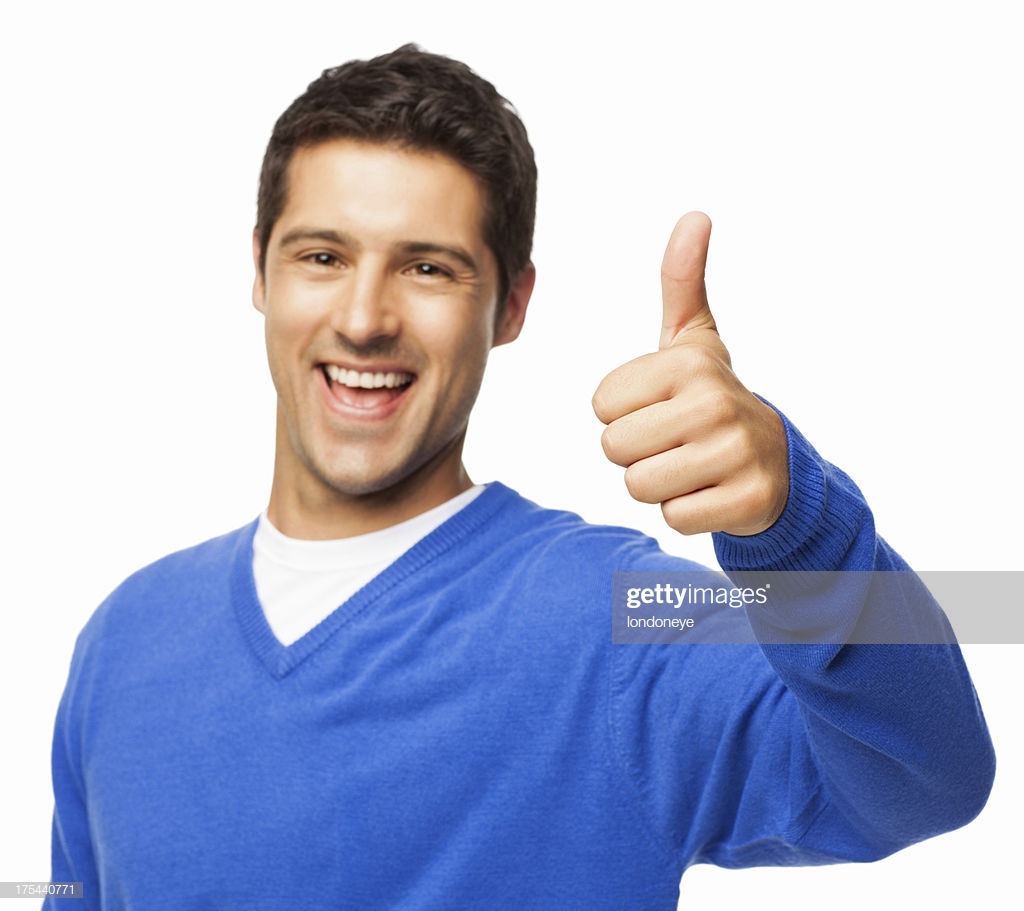thumbsup: (591, 208, 778, 537)
